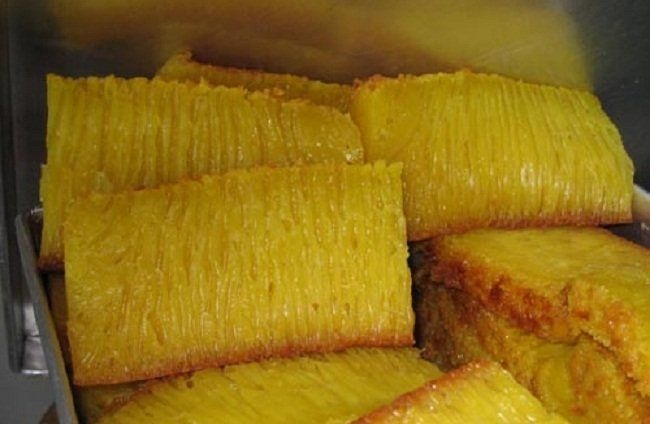bika_ambon: (49, 160, 416, 361), (353, 62, 642, 246)
